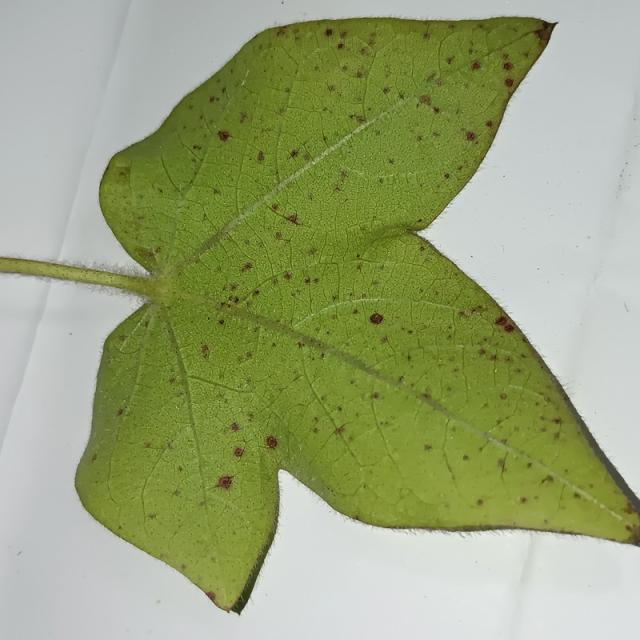Bacterial_Blight: (227, 250, 332, 327), (364, 152, 448, 211), (254, 211, 319, 284), (213, 423, 275, 496), (365, 394, 410, 482), (109, 312, 148, 355), (216, 280, 258, 317), (187, 375, 247, 396), (484, 408, 516, 447), (441, 429, 460, 485), (269, 203, 304, 226), (359, 311, 389, 333), (209, 472, 238, 492), (331, 168, 351, 194), (353, 251, 387, 265), (111, 164, 131, 187), (257, 433, 281, 451), (227, 440, 246, 460), (136, 246, 158, 263), (142, 441, 170, 451), (497, 454, 509, 474), (237, 351, 254, 364), (534, 26, 547, 40), (349, 113, 364, 124), (622, 502, 635, 514), (217, 130, 230, 142), (503, 321, 515, 333), (201, 344, 210, 359), (333, 425, 345, 436), (419, 94, 431, 105), (205, 590, 216, 602), (465, 131, 476, 142), (541, 475, 553, 485), (241, 262, 252, 272), (470, 61, 481, 71), (230, 422, 240, 432), (289, 149, 299, 159), (502, 62, 513, 71), (239, 113, 248, 123), (339, 170, 349, 179), (421, 392, 431, 401), (504, 78, 514, 87), (257, 151, 265, 162), (445, 56, 454, 65), (333, 185, 342, 193), (168, 376, 177, 384), (172, 489, 181, 497), (147, 513, 157, 520), (213, 188, 221, 196), (303, 153, 311, 161), (117, 408, 125, 416), (432, 106, 440, 114), (275, 231, 283, 239), (478, 348, 486, 356), (356, 70, 364, 78), (476, 498, 484, 506), (520, 496, 528, 504), (423, 32, 431, 40), (325, 28, 333, 36), (423, 444, 432, 451), (118, 334, 127, 341), (193, 144, 202, 151), (91, 453, 98, 462), (489, 354, 497, 361), (573, 492, 581, 499), (372, 391, 379, 399), (328, 84, 336, 91), (553, 417, 561, 424), (499, 393, 507, 400), (626, 524, 633, 532), (381, 336, 388, 343), (416, 135, 423, 142), (312, 427, 319, 434), (218, 319, 225, 326), (209, 96, 216, 103), (486, 121, 493, 128), (462, 454, 469, 461), (383, 87, 390, 94), (199, 500, 206, 507), (144, 442, 152, 448), (272, 203, 278, 211), (337, 43, 344, 49), (388, 158, 394, 164), (271, 342, 277, 348), (444, 173, 450, 179), (244, 239, 250, 245), (178, 466, 183, 472), (181, 564, 186, 570)
Cotton: (0, 18, 639, 613)
